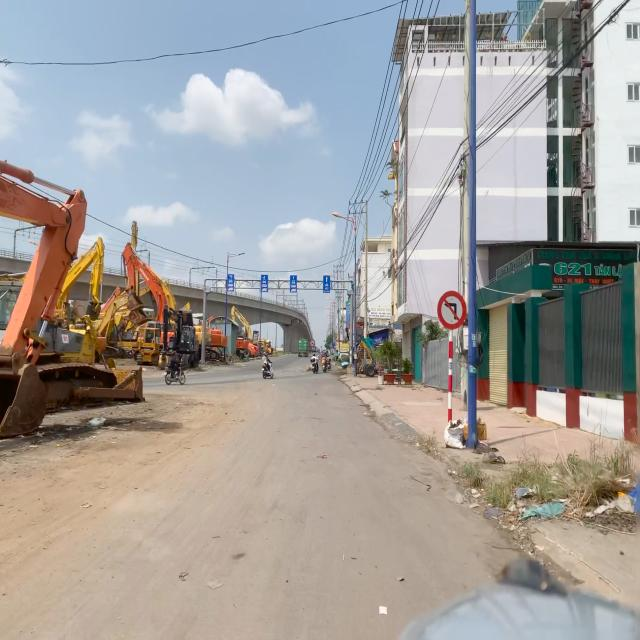Cam re trai: (436, 290, 467, 330)
